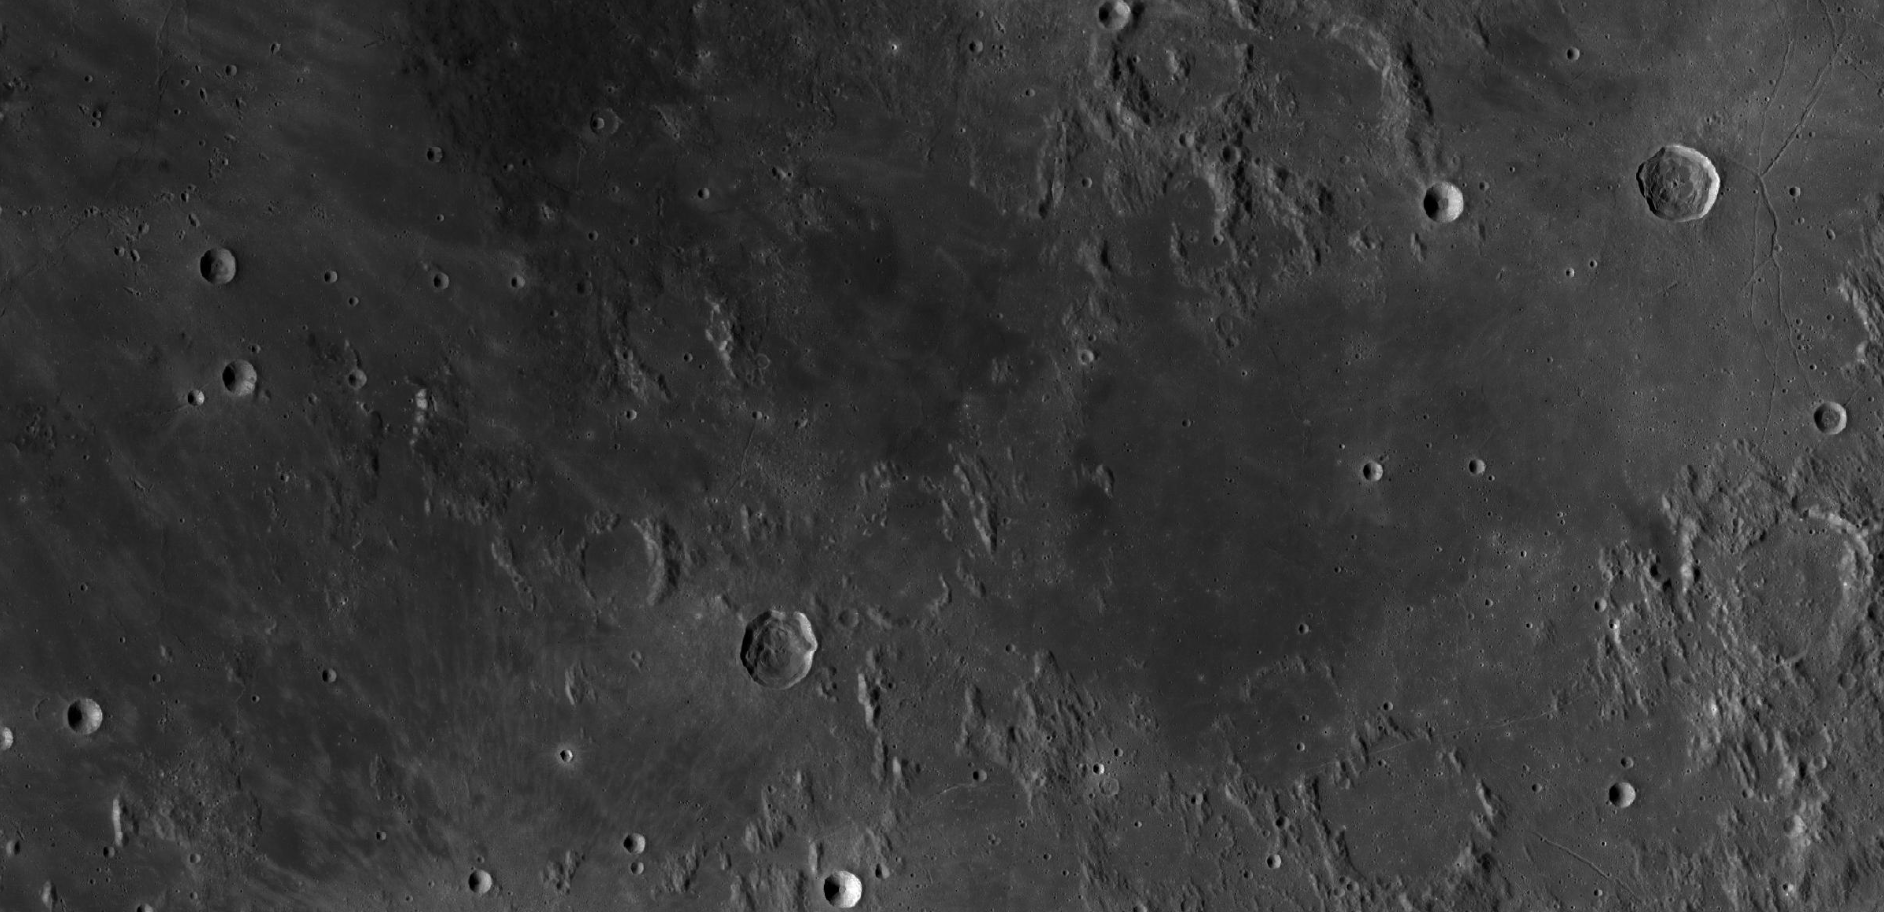crater: (1598, 105, 1751, 262), (714, 582, 846, 709), (153, 228, 291, 322), (1399, 175, 1495, 230), (46, 684, 123, 751), (1794, 385, 1862, 455)
